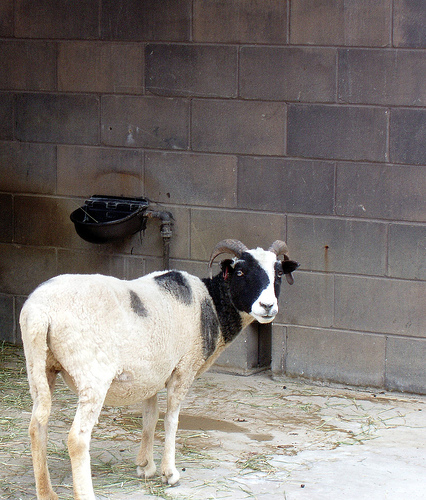goat: (18, 238, 301, 500)
